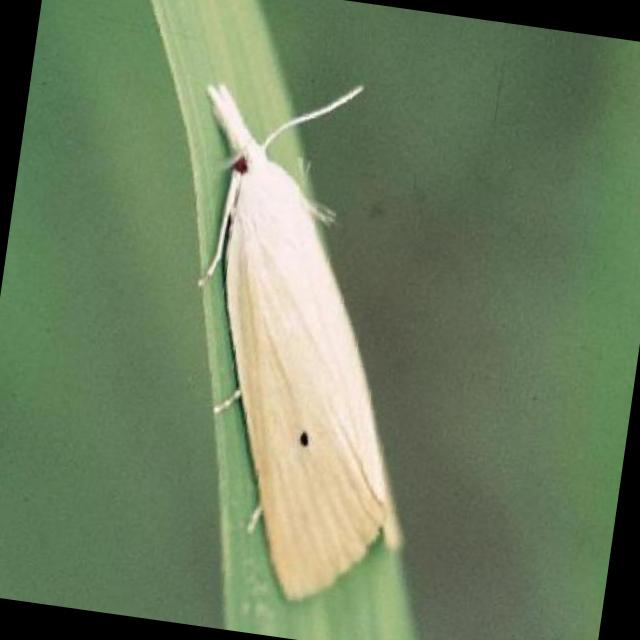stem-borer: (133, 73, 468, 622)
